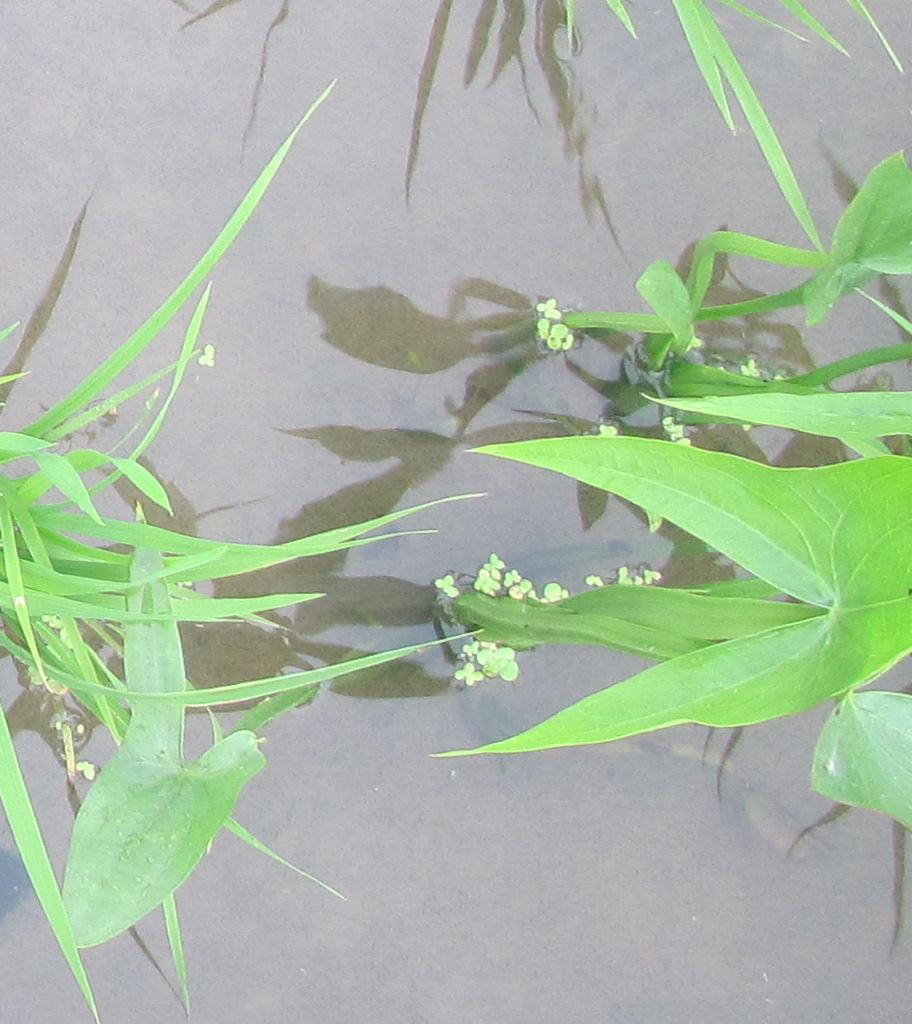Weed: (467, 425, 910, 766), (50, 697, 275, 963), (522, 278, 600, 374)
